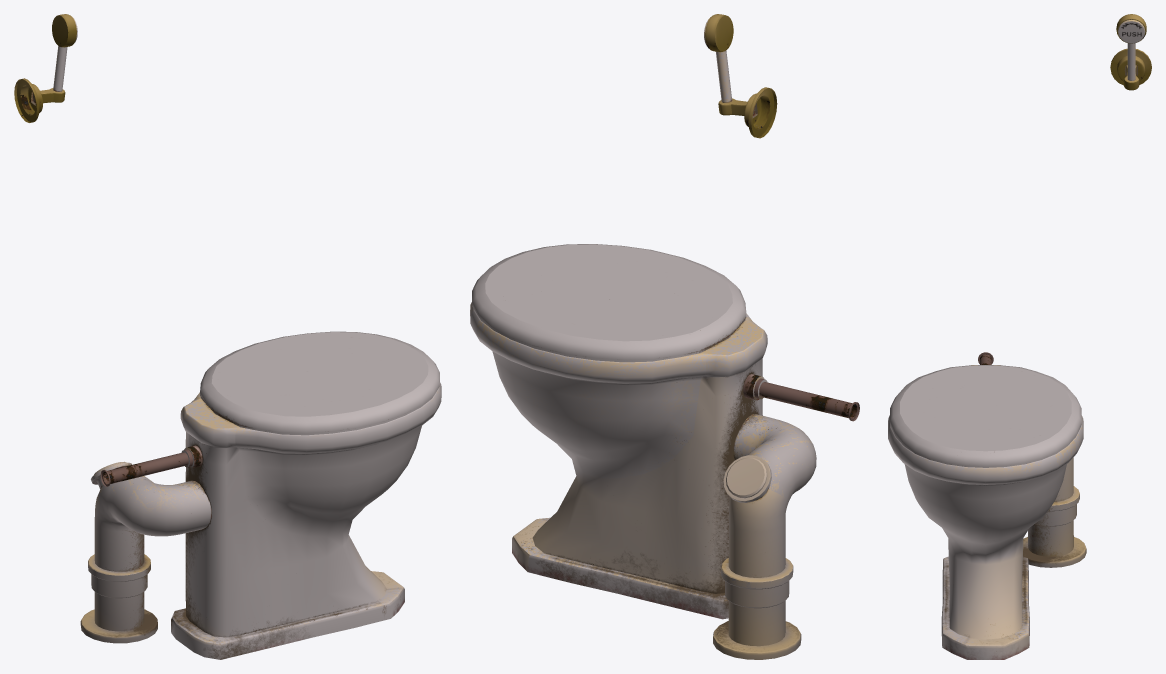
File: Toilet.fbx
3 renders of one model, left to right at view 1: azimuth 30°, elevation 25°; view 2: azimuth 150°, elevation 25°; view 3: azimuth 270°, elevation 25°, orthographic. The views are drawn at different scales.
Parts seen in each view (by area): view 1: ShipToilet; view 2: ShipToilet; view 3: ShipToilet.
Boxes of the visible parts, x1,y1,x2,y2 form: ShipToilet: (14,14,441,659); ShipToilet: (470,14,859,659); ShipToilet: (888,14,1151,659).
Size of the model in its own units: 1.99 by 3.43 by 1.54.
1 material, 1 textured.
